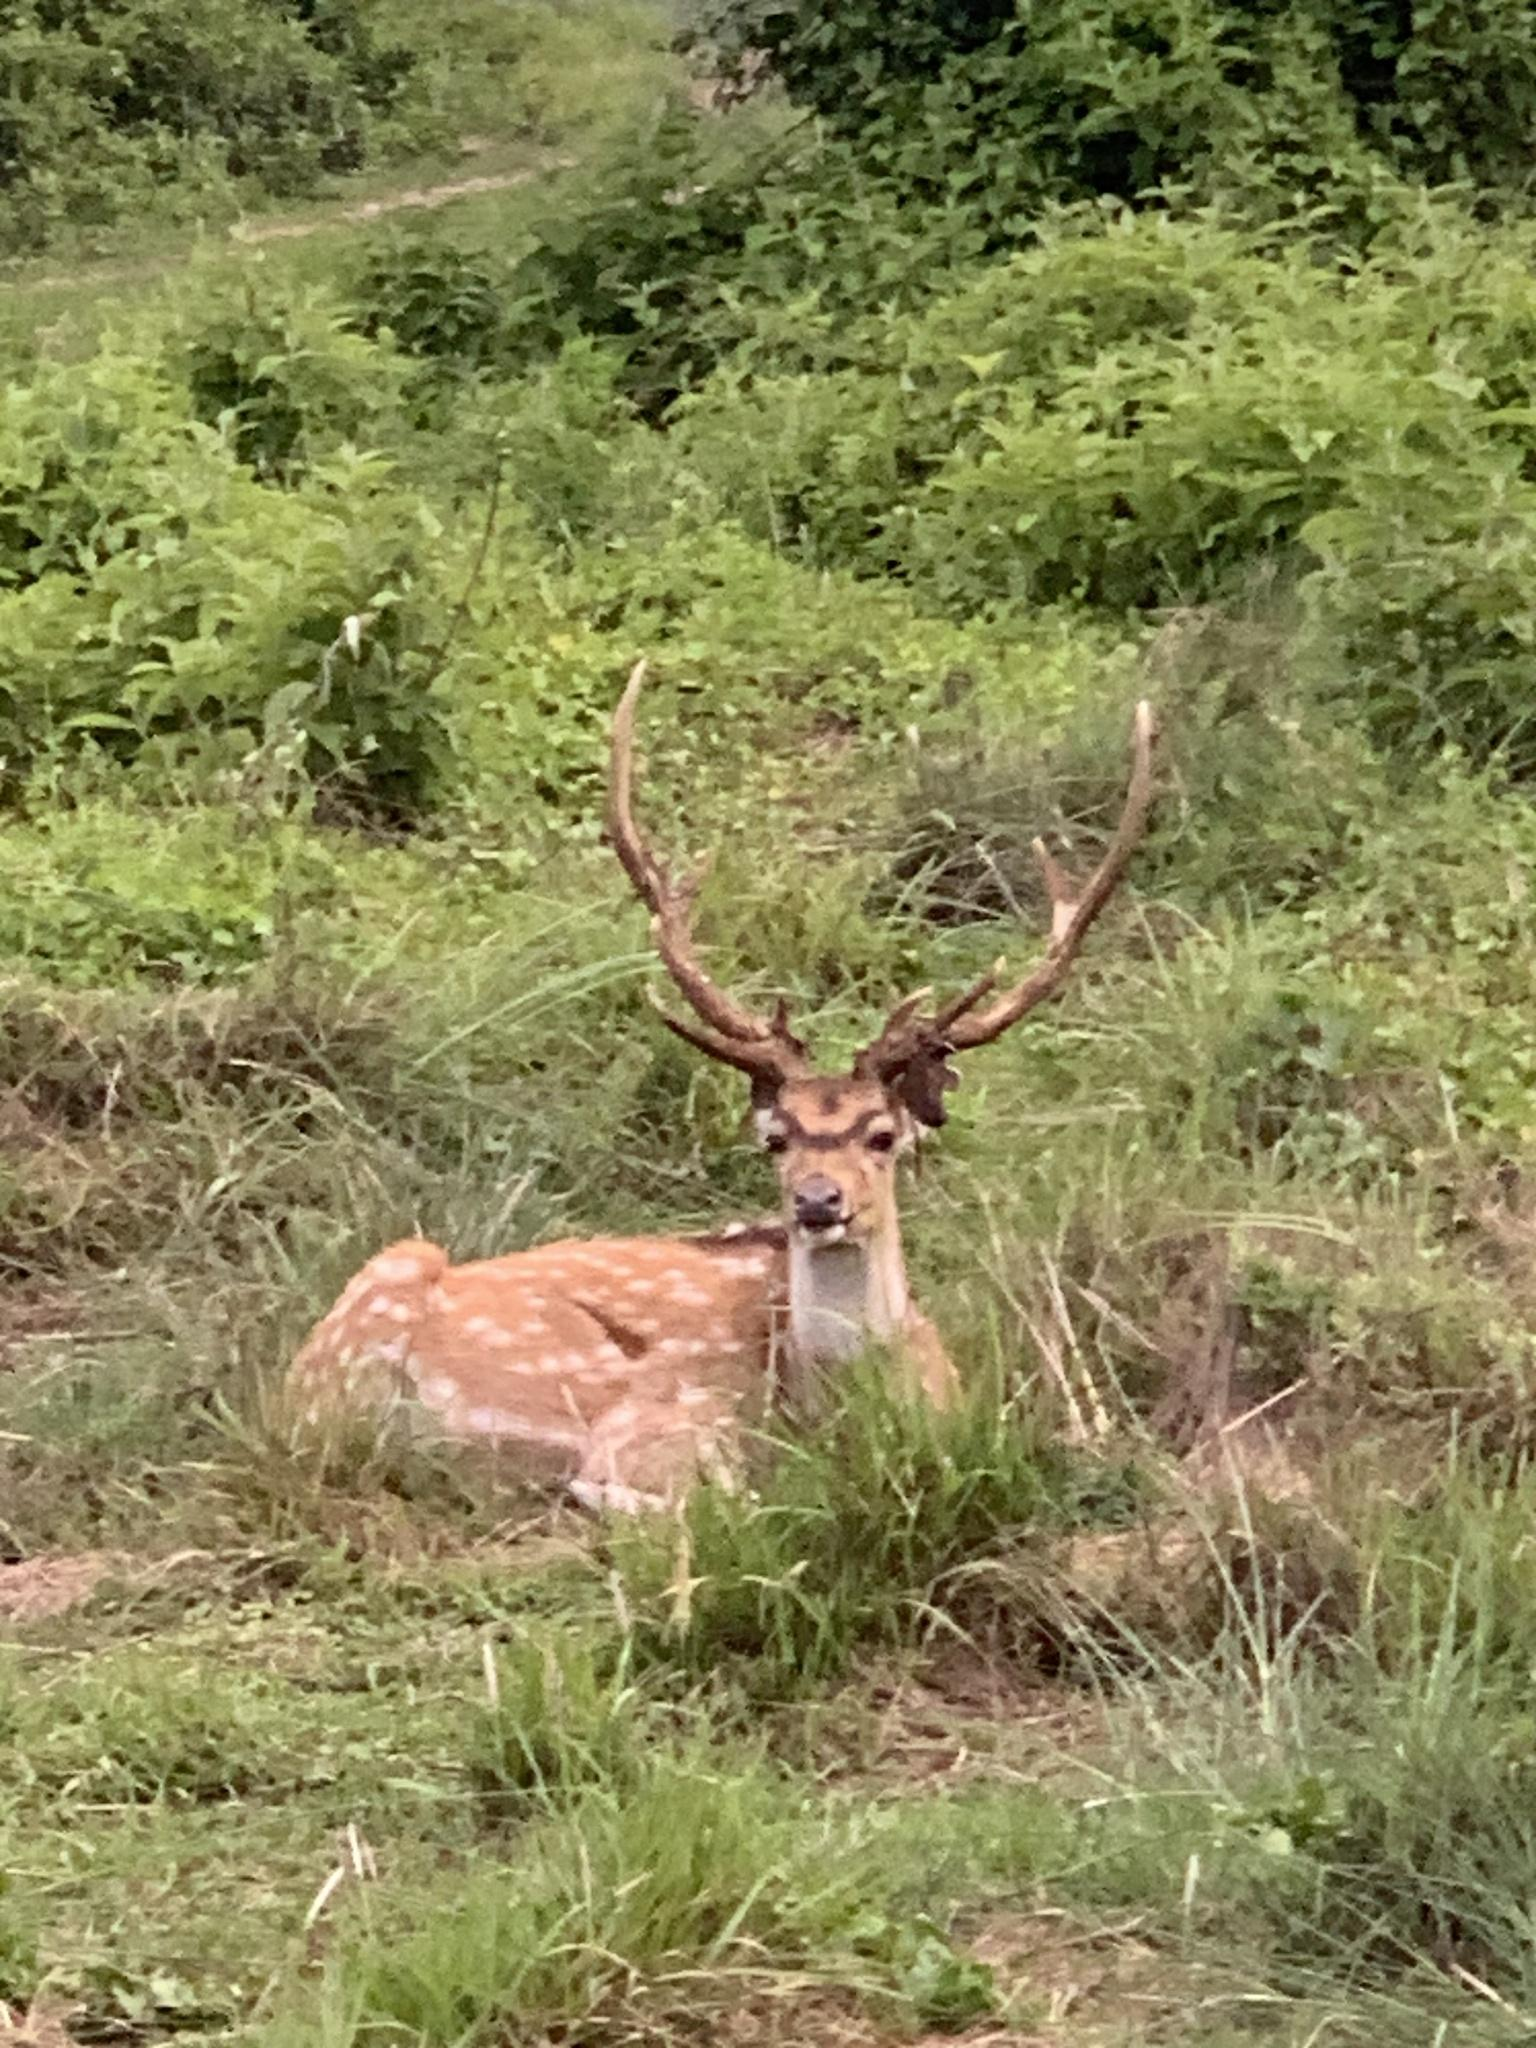Deer: (290, 666, 1157, 1513)
